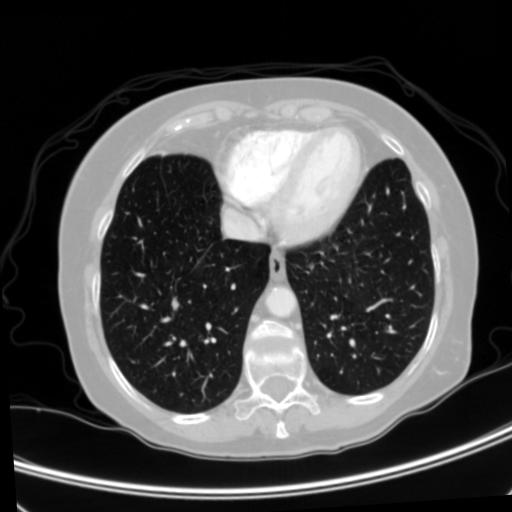nodule: (169, 298, 183, 312)
